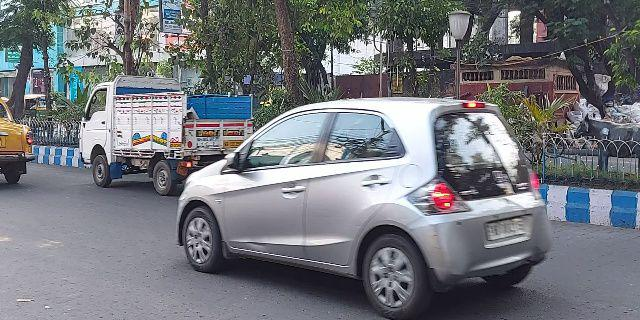Car: (170, 94, 554, 311), (1, 98, 35, 185)
Minitruck: (78, 74, 255, 194)
